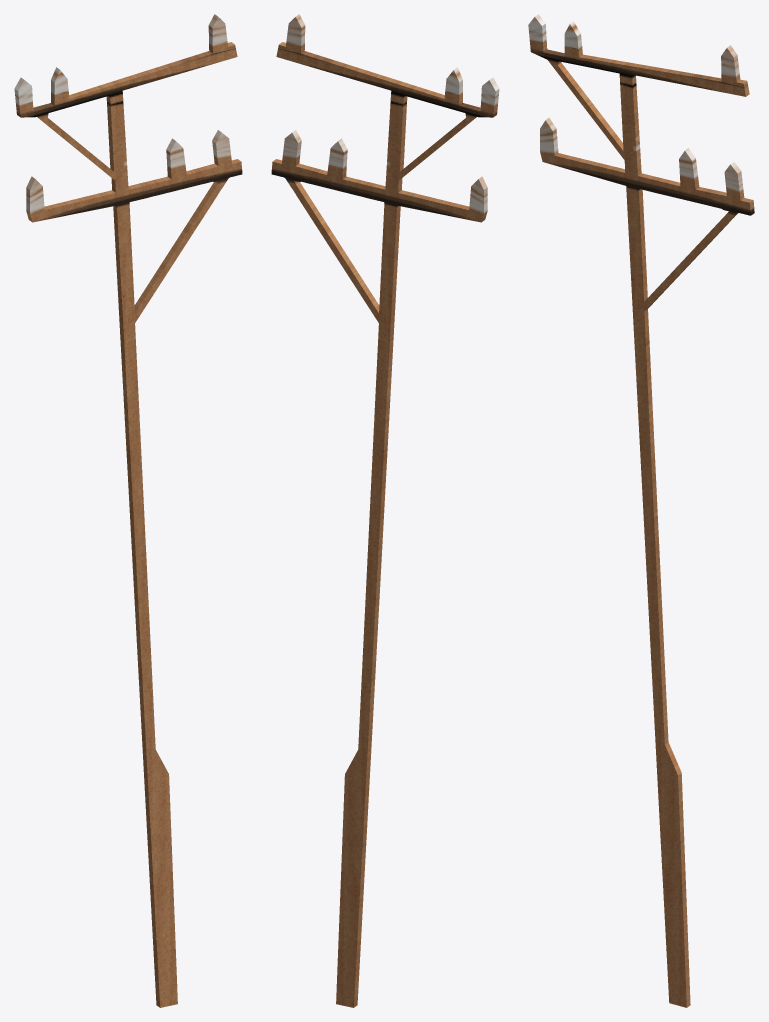
Rendered from pole_2.FBX.
The picture shows the model from 3 angles, left to right: view 1: azimuth 30°, elevation 25°; view 2: azimuth 150°, elevation 25°; view 3: azimuth 330°, elevation 25°; orthographic projection.
Visible parts, largest first — view 1: pole_2; view 2: pole_2; view 3: pole_2.
Part boxes in pixels (bbox=[...]): pole_2: bbox=[14, 14, 242, 1007]; pole_2: bbox=[271, 14, 499, 1007]; pole_2: bbox=[528, 14, 754, 1007].
Bounding box in the file's own units: 241 × 1004 × 7.
Materials: 1 (1 with a texture image).
